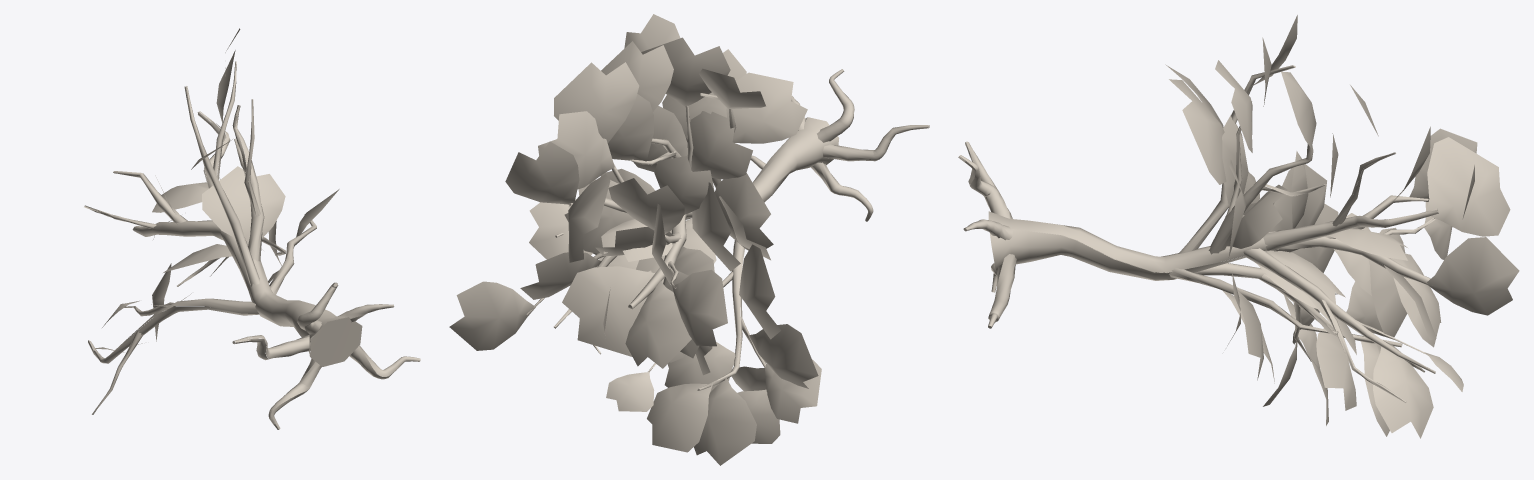
The model's file is tree_2_cand04.glb.
3 renders of one model, left to right at view 1: azimuth 30°, elevation 25°; view 2: azimuth 150°, elevation 25°; view 3: azimuth 270°, elevation 25°, orthographic. The views are drawn at different scales.
Parts seen in each view (by area): view 1: world; view 2: world; view 3: world.
Boxes of the visible parts, left/top/right/bottom form: world: left=84, top=28, right=420, bottom=429; world: left=449, top=14, right=929, bottom=465; world: left=958, top=15, right=1519, bottom=438.
Size of the model in its own units: 1.31 by 1.53 by 1.75.
